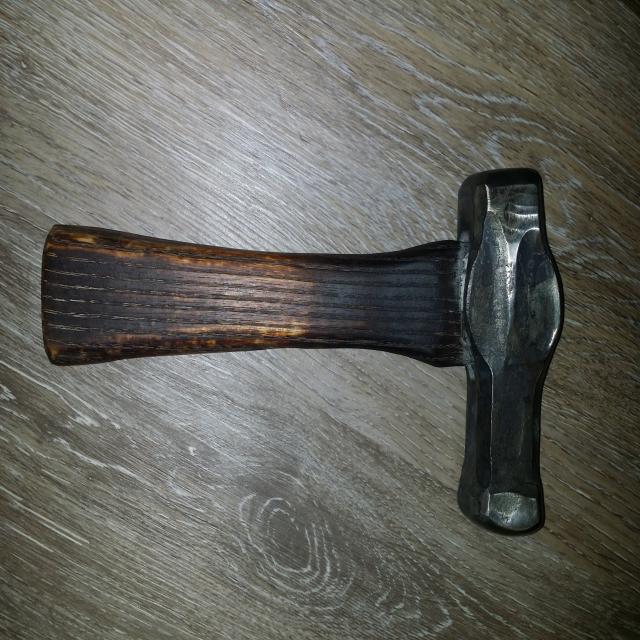hammer: (34, 160, 568, 546)
